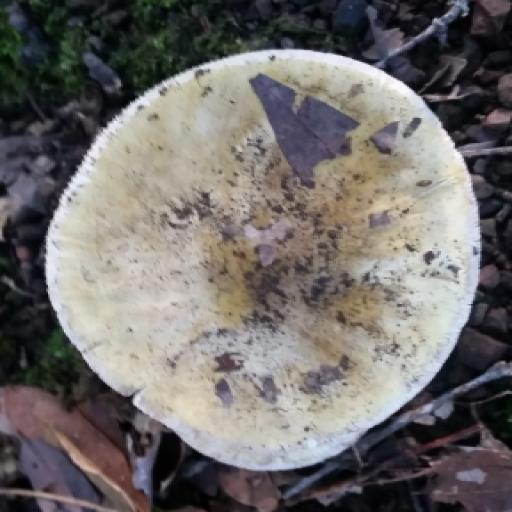Death Cap: (18, 4, 512, 502)
